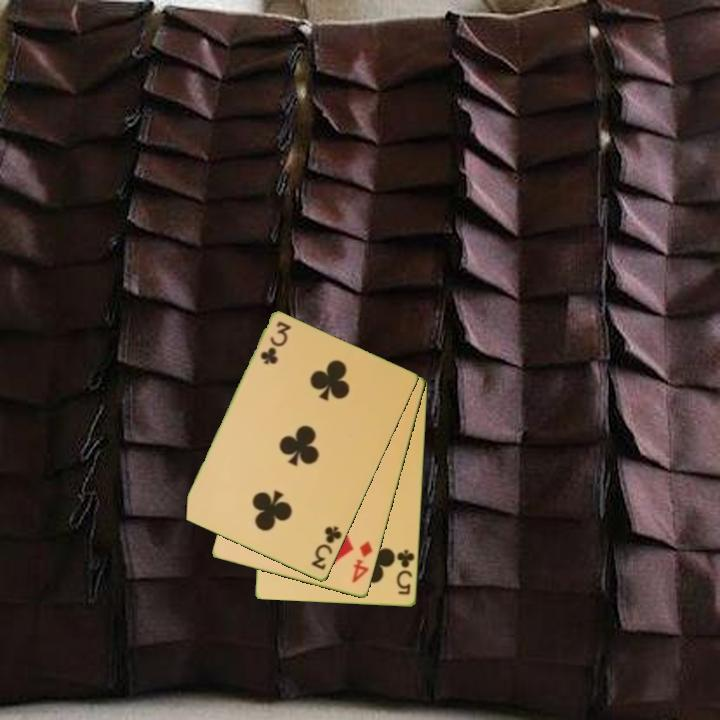3c: (308, 523, 345, 573), (257, 318, 293, 368)
4d: (348, 538, 376, 586)
5c: (393, 546, 417, 598)
